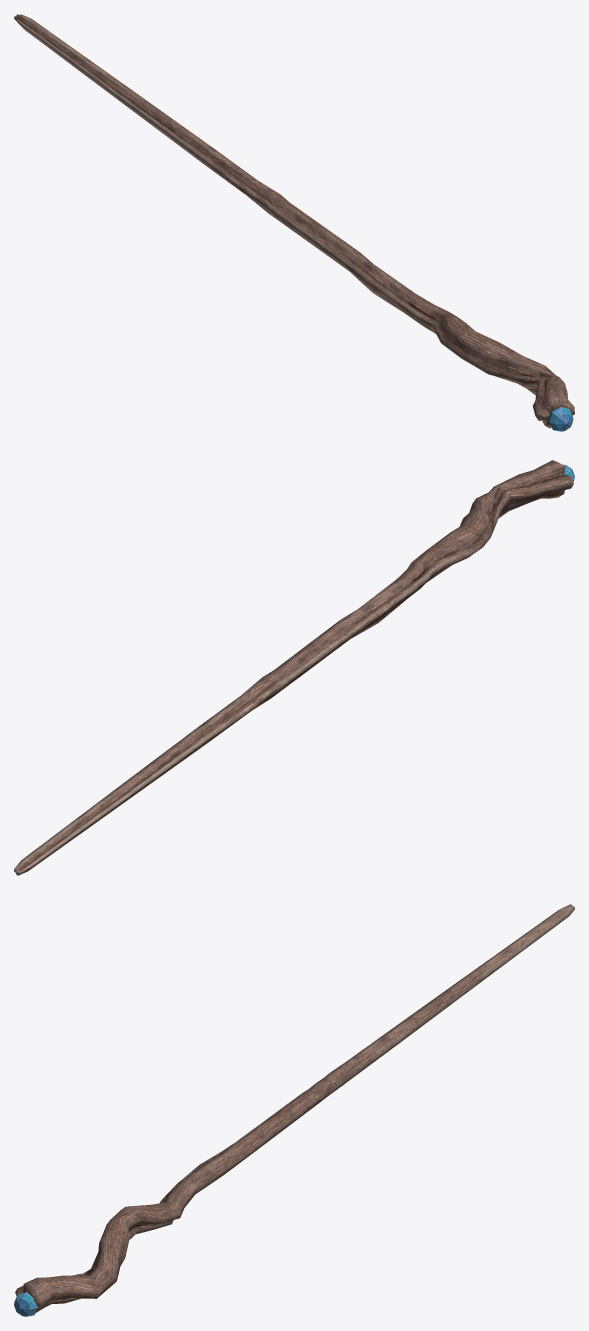
Rendered from Wizard_Lv1_Staff.fbx.
3 views of the same model, one above another, from view 1: azimuth 30°, elevation 25°; view 2: azimuth 150°, elevation 25°; view 3: azimuth 330°, elevation 25° (orthographic).
Parts seen in each view (by area): view 1: Staff_001; view 2: Staff_001; view 3: Staff_001.
Part boxes in pixels (bbox=[...]): Staff_001: bbox=[14, 14, 574, 431]; Staff_001: bbox=[14, 460, 574, 875]; Staff_001: bbox=[14, 904, 574, 1316].
Size of the model in its own units: 7.18 by 4.49 by 119.
